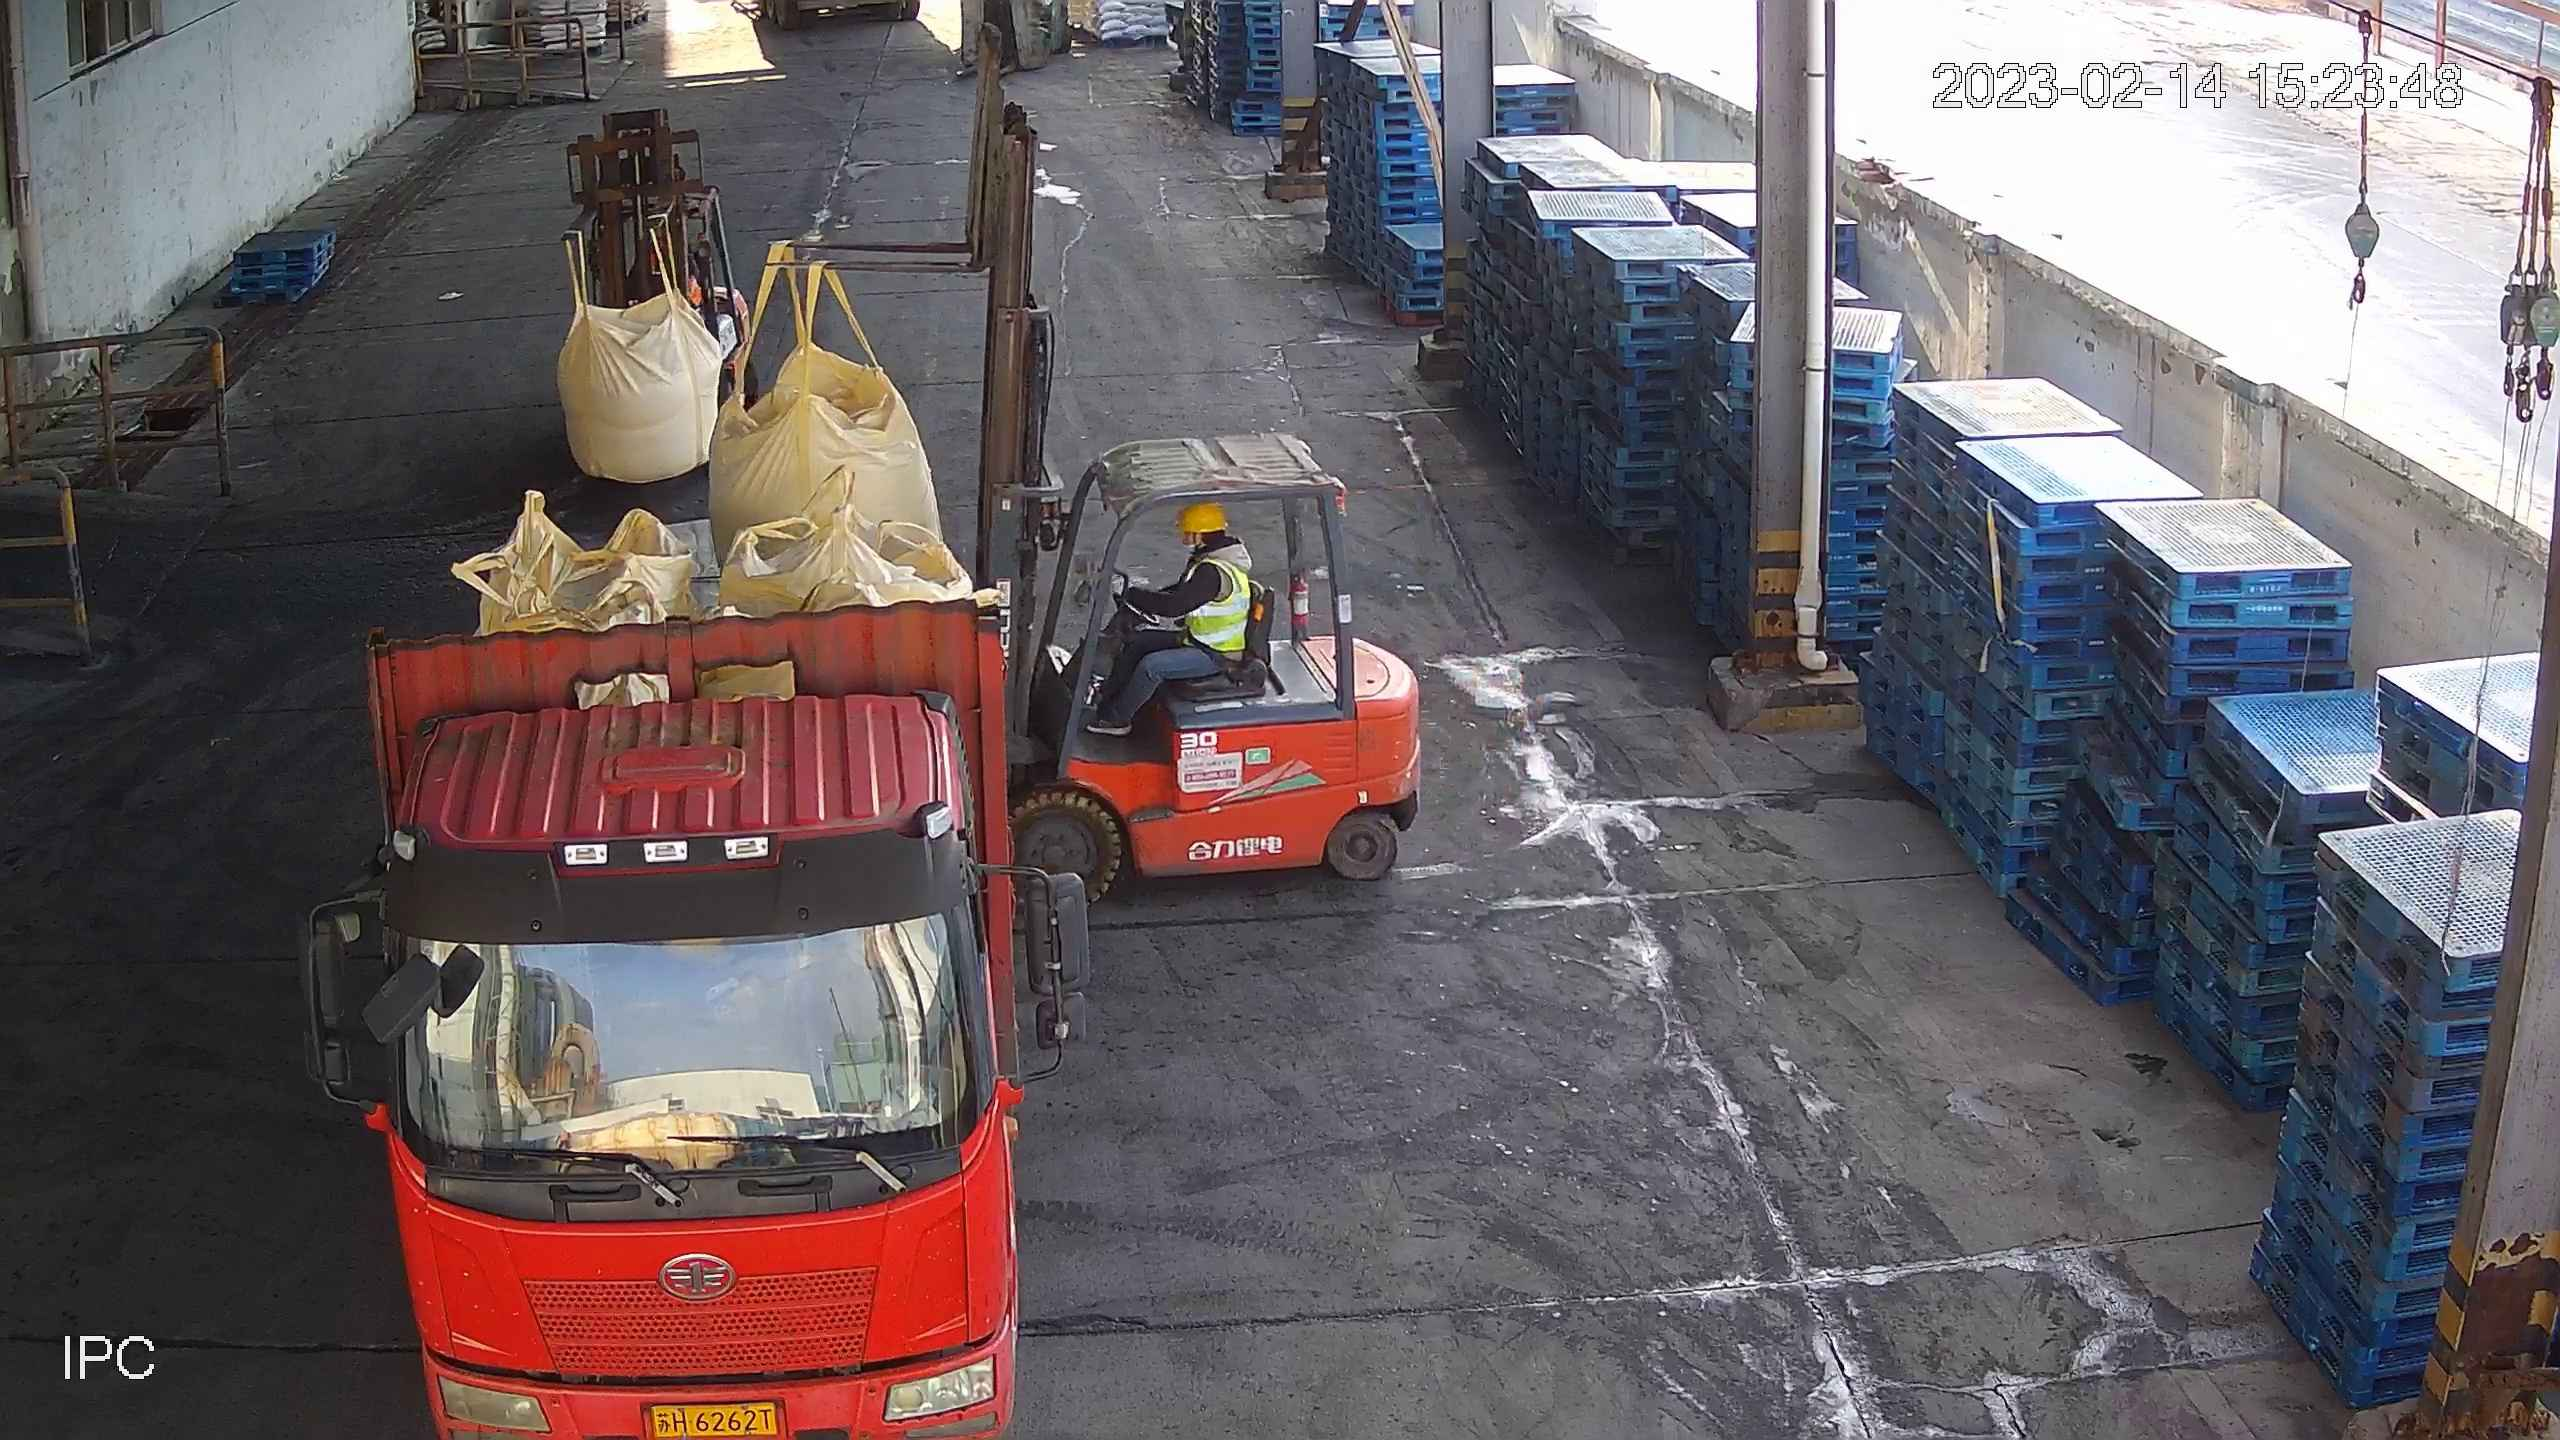head: (1137, 501, 1252, 613)
helmet: (1178, 500, 1229, 539)
people: (1088, 501, 1256, 749)
truck: (295, 532, 1090, 1440)
